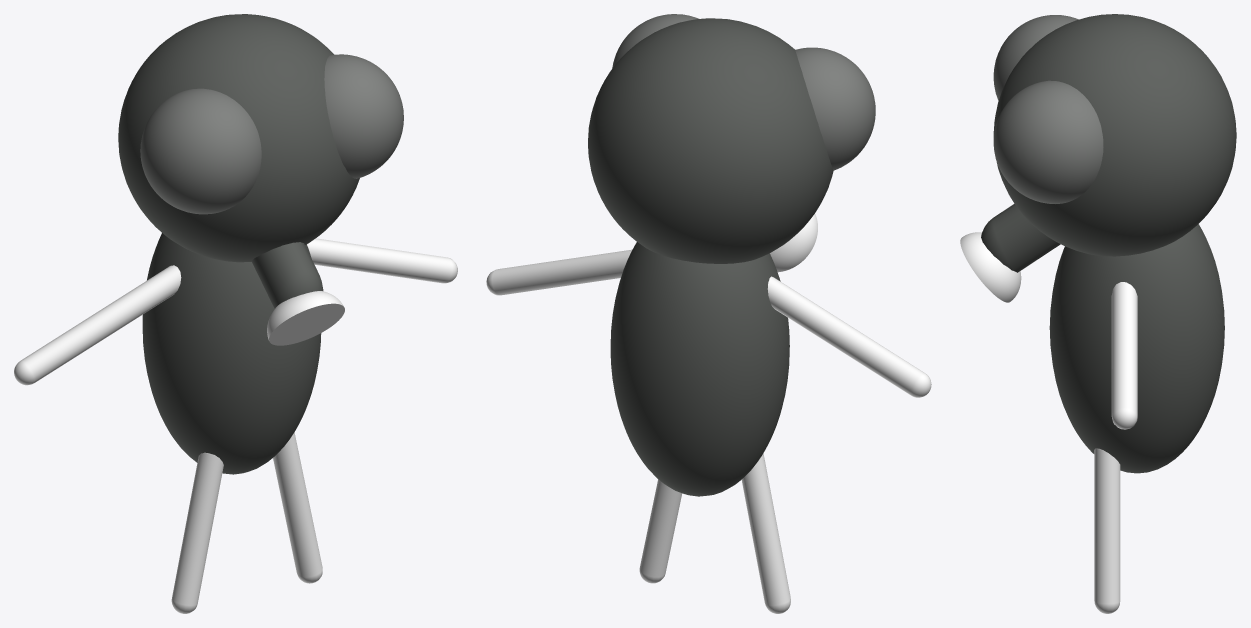
Rendered from FlyPaint3D.fbx.
3 renders of one model, left to right at view 1: azimuth 30°, elevation 25°; view 2: azimuth 150°, elevation 25°; view 3: azimuth 270°, elevation 25°, orthographic. The views are drawn at different scales.
Visible parts, largest first — view 1: node_id11, node_id17, node_id32, node_id14, node_id38, node_id35, node_id20, node_id23, node_id8, node_id5; view 2: node_id11, node_id17, node_id32, node_id38, node_id35, node_id20, node_id23, node_id8, node_id14; view 3: node_id11, node_id17, node_id14, node_id23, node_id20, node_id5, node_id32, node_id8.
Boxes of the visible parts, bbox=[...] form: node_id11: bbox=[118, 14, 359, 262]; node_id17: bbox=[142, 233, 321, 474]; node_id32: bbox=[140, 88, 261, 214]; node_id14: bbox=[324, 54, 403, 178]; node_id38: bbox=[14, 265, 181, 385]; node_id35: bbox=[171, 452, 223, 613]; node_id20: bbox=[307, 238, 457, 283]; node_id23: bbox=[273, 432, 322, 583]; node_id8: bbox=[267, 291, 344, 345]; node_id5: bbox=[251, 242, 323, 308]; node_id11: bbox=[588, 18, 833, 263]; node_id17: bbox=[610, 242, 789, 496]; node_id32: bbox=[795, 47, 875, 170]; node_id38: bbox=[767, 276, 931, 397]; node_id35: bbox=[741, 453, 790, 613]; node_id20: bbox=[486, 249, 631, 295]; node_id23: bbox=[639, 479, 682, 583]; node_id8: bbox=[770, 213, 817, 272]; node_id14: bbox=[612, 14, 698, 68]; node_id11: bbox=[993, 14, 1236, 256]; node_id17: bbox=[1049, 224, 1224, 473]; node_id14: bbox=[993, 80, 1103, 203]; node_id23: bbox=[1094, 448, 1120, 613]; node_id20: bbox=[1111, 282, 1137, 429]; node_id5: bbox=[981, 204, 1060, 272]; node_id32: bbox=[993, 15, 1078, 100]; node_id8: bbox=[960, 232, 1021, 302].
Bounding box in the file's own units: 0.4124 × 0.5095 × 0.2291.
12 materials, 5 textured.
